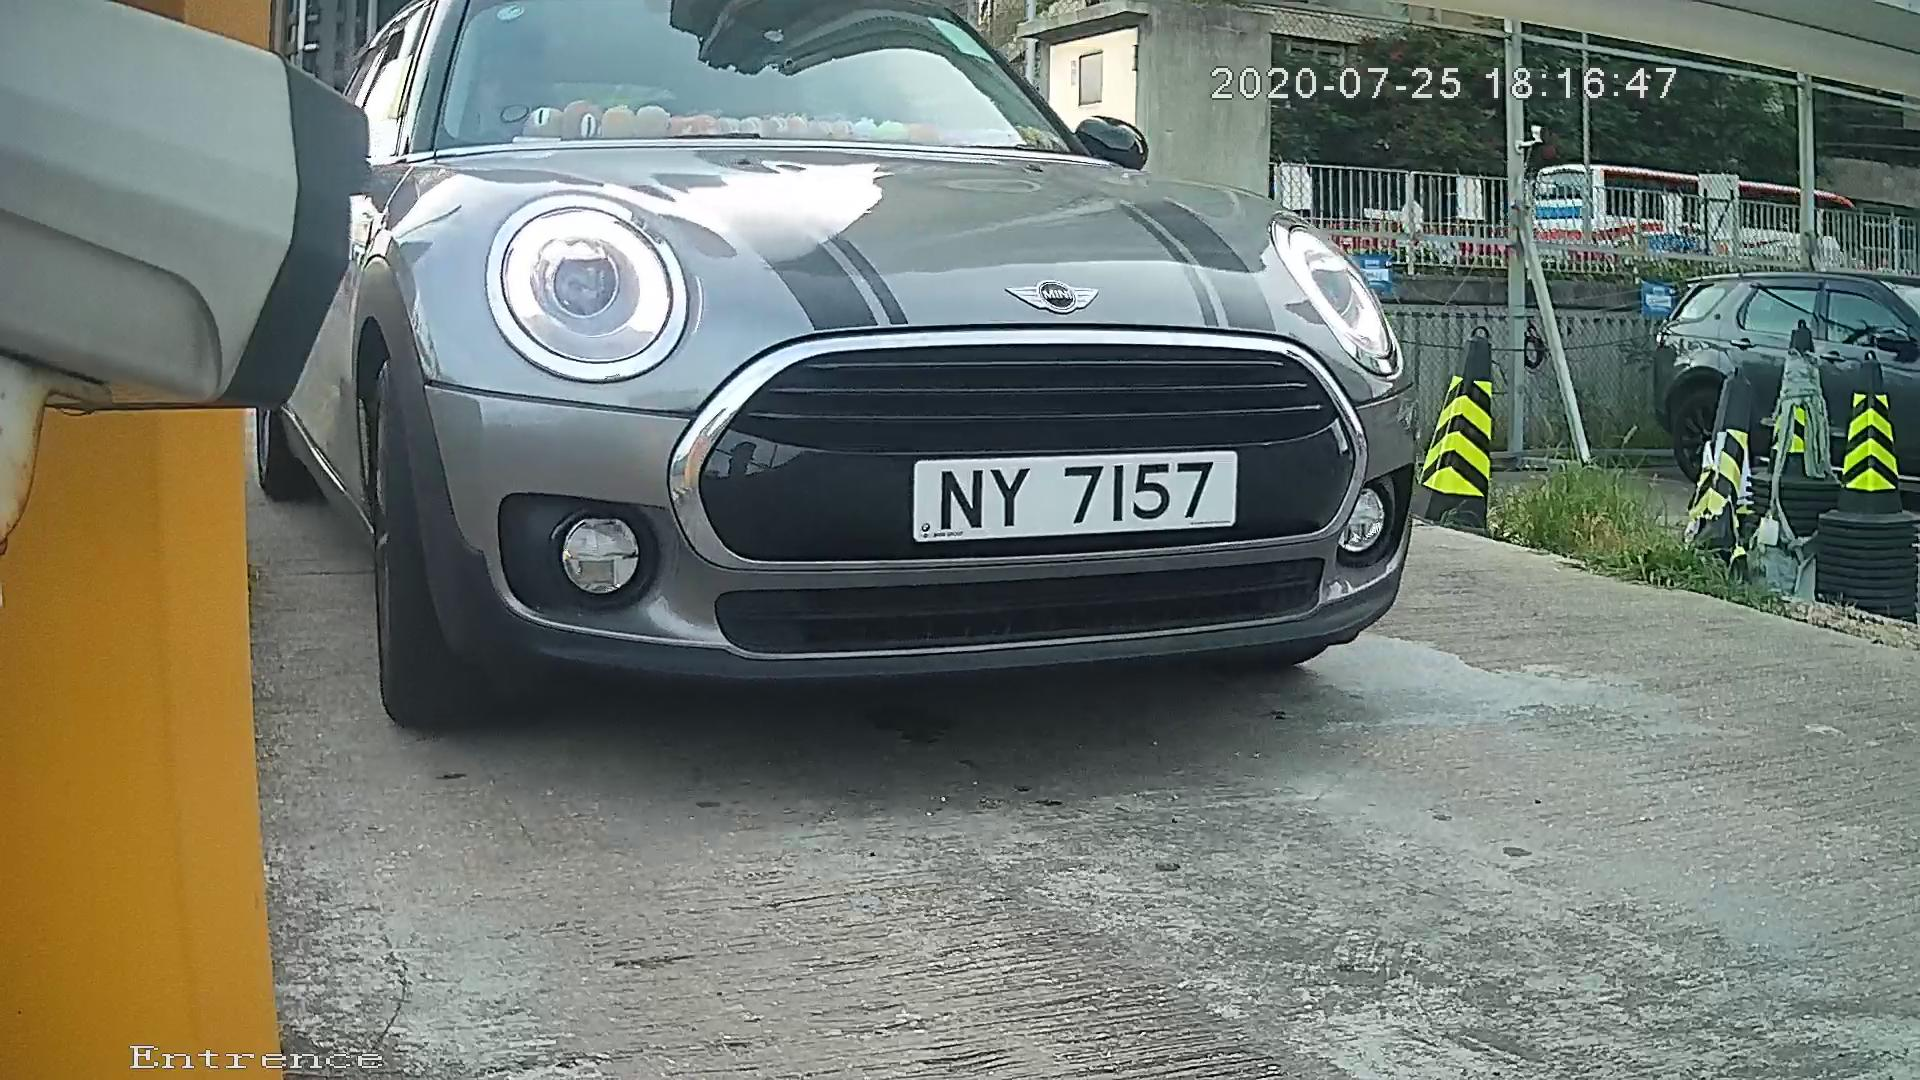License Plate: (875, 444, 1261, 555)
